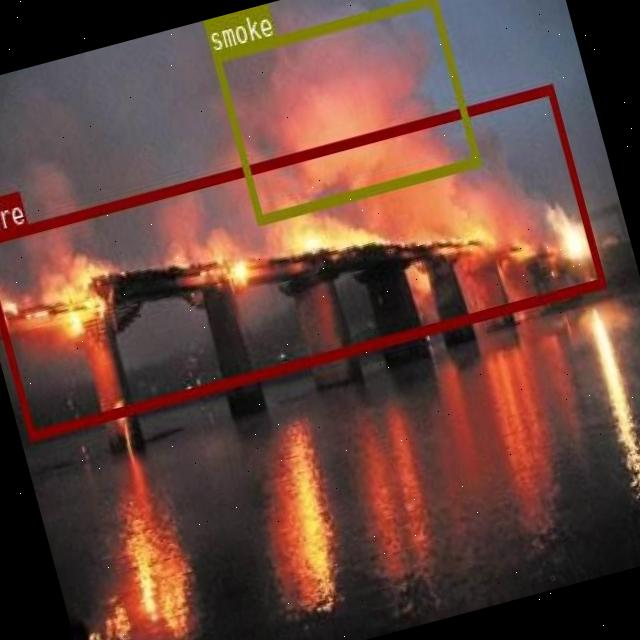fire: (0, 82, 604, 439)
smoke: (211, 0, 478, 222)
